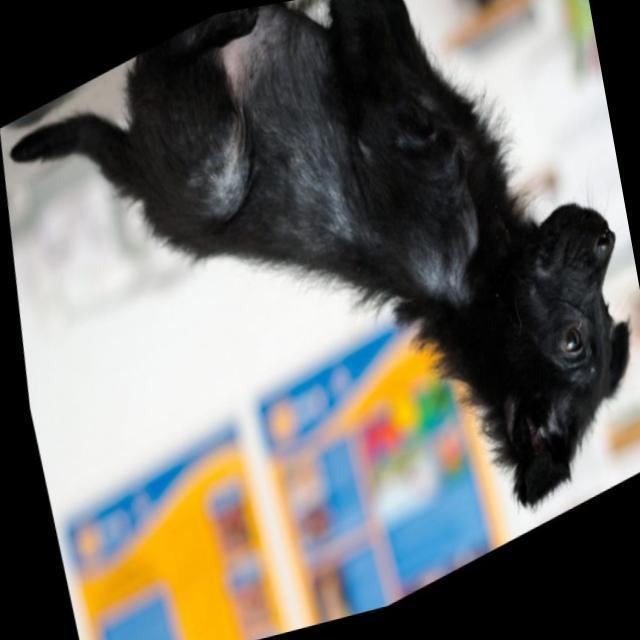mange: (185, 3, 396, 269)
